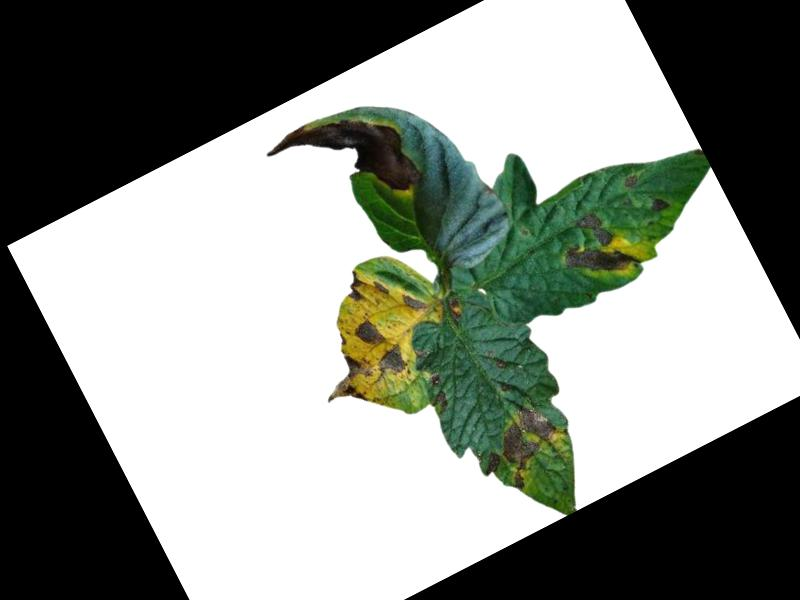Early_blight: (261, 87, 424, 239), (482, 396, 574, 492), (548, 202, 640, 294), (308, 346, 386, 419), (372, 340, 413, 381), (348, 314, 387, 354), (420, 370, 455, 412), (337, 267, 371, 303), (475, 449, 505, 479), (399, 285, 428, 316), (647, 192, 671, 216), (369, 275, 389, 299), (445, 297, 464, 321), (620, 172, 639, 188)
